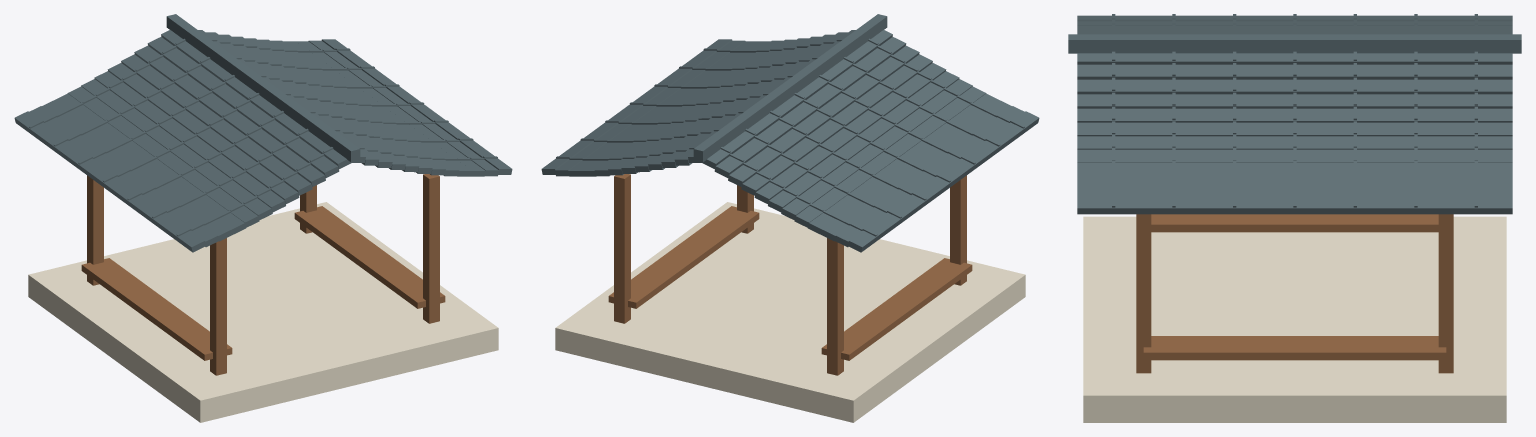
The model's file is pavilion.glb.
3 views of the same model, side by side, from view 1: azimuth 30°, elevation 25°; view 2: azimuth 150°, elevation 25°; view 3: azimuth 270°, elevation 25° (orthographic). The views are drawn at different scales.
Visible parts, largest first — view 1: Pavilion stone plinth, Bench, Bench.001, Roof ridge, Curved tile course.011, Curved tile course.001, Curved tile course.002, Curved tile course.003, Curved tile course.004, Curved tile course.005, Curved tile course.006, Curved tile course.007 (+18 smaller); view 2: Pavilion stone plinth, Bench, Bench.001, Roof ridge, Curved tile course.011, Curved tile course.001, Curved tile course.002, Curved tile course.003, Curved tile course.004, Curved tile course.005, Curved tile course.006, Curved tile course.007 (+18 smaller); view 3: Pavilion stone plinth, Roof ridge, Curved tile course.023, Bench.001, Curved tile course.013, Curved tile course.014, Curved tile course.015, Curved tile course.016, Curved tile course.017, Curved tile course.018, Curved tile course.019, Bench (+11 smaller).
Part boxes in pixels (left/top/right/bottom): Pavilion stone plinth: left=28, top=202, right=498, bottom=422; Bench: left=81, top=258, right=232, bottom=360; Bench.001: left=294, top=206, right=445, bottom=308; Roof ridge: left=166, top=14, right=360, bottom=162; Curved tile course.011: left=14, top=111, right=205, bottom=252; Curved tile course.001: left=147, top=37, right=339, bottom=177; Curved tile course.002: left=134, top=45, right=325, bottom=186; Curved tile course.003: left=121, top=54, right=312, bottom=195; Curved tile course.004: left=107, top=63, right=299, bottom=203; Curved tile course.005: left=94, top=71, right=285, bottom=212; Curved tile course.006: left=81, top=79, right=272, bottom=220; Curved tile course.007: left=67, top=86, right=259, bottom=227; Pavilion stone plinth: left=555, top=202, right=1025, bottom=422; Bench: left=821, top=258, right=972, bottom=360; Bench.001: left=608, top=206, right=759, bottom=308; Roof ridge: left=693, top=14, right=887, bottom=162; Curved tile course.011: left=848, top=111, right=1039, bottom=252; Curved tile course.001: left=714, top=37, right=906, bottom=177; Curved tile course.002: left=728, top=45, right=919, bottom=186; Curved tile course.003: left=741, top=54, right=932, bottom=195; Curved tile course.004: left=754, top=63, right=946, bottom=203; Curved tile course.005: left=768, top=71, right=959, bottom=212; Curved tile course.006: left=781, top=79, right=972, bottom=220; Curved tile course.007: left=794, top=86, right=986, bottom=227; Pavilion stone plinth: left=1083, top=216, right=1506, bottom=422; Roof ridge: left=1068, top=34, right=1521, bottom=53; Curved tile course.023: left=1077, top=196, right=1512, bottom=214; Bench.001: left=1143, top=336, right=1446, bottom=360; Curved tile course.013: left=1077, top=64, right=1512, bottom=79; Curved tile course.014: left=1077, top=79, right=1512, bottom=94; Curved tile course.015: left=1077, top=94, right=1512, bottom=108; Curved tile course.016: left=1077, top=108, right=1512, bottom=122; Curved tile course.017: left=1077, top=122, right=1512, bottom=136; Curved tile course.018: left=1077, top=136, right=1512, bottom=149; Curved tile course.019: left=1077, top=149, right=1512, bottom=162; Bench: left=1151, top=214, right=1438, bottom=232.
Bounding box in the file's own units: 7.53 × 5.41 × 7.5.
